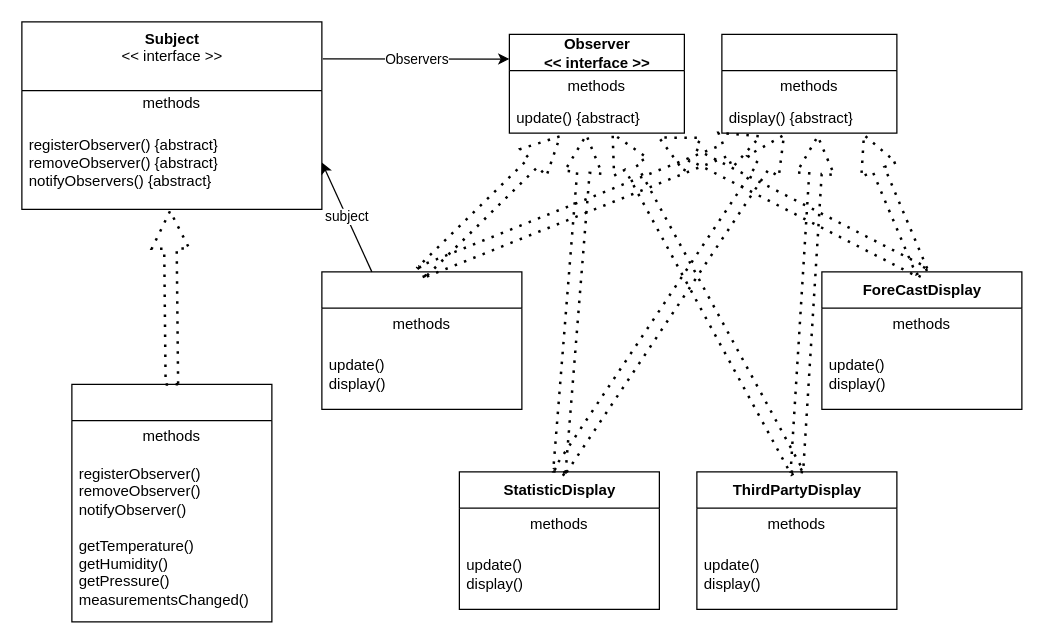
This 1044x644 diagram has some shape labels left out. The box of each missing label's shape, as (x1, y1, x2, y2) in pixels:
CurrentConditionDisplay: (321, 271, 522, 409)
DisplayElement << interface >>: (721, 33, 897, 133)
WeatherData: (71, 383, 272, 622)
